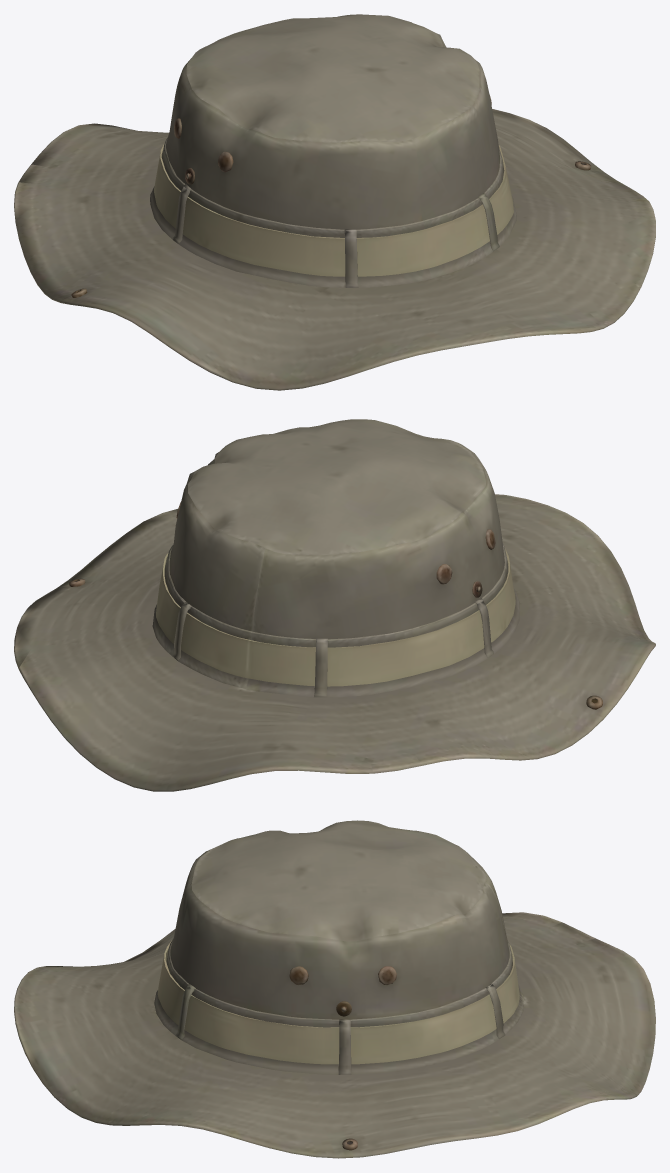
File: fishermans_hat.glb
The picture shows the model from 3 angles, top to bottom: view 1: azimuth 30°, elevation 25°; view 2: azimuth 150°, elevation 25°; view 3: azimuth 270°, elevation 25°; orthographic projection. The views are drawn at different scales.
Parts seen in each view (by area): view 1: fishermans_hat; view 2: fishermans_hat; view 3: fishermans_hat.
Part boxes in pixels (left/top/right/bottom): fishermans_hat: left=14, top=14, right=655, bottom=390; fishermans_hat: left=14, top=419, right=655, bottom=791; fishermans_hat: left=14, top=820, right=655, bottom=1158.
Size of the model in its own units: 0.3236 by 0.1239 by 0.35.
Materials: 1 (1 with a texture image).
